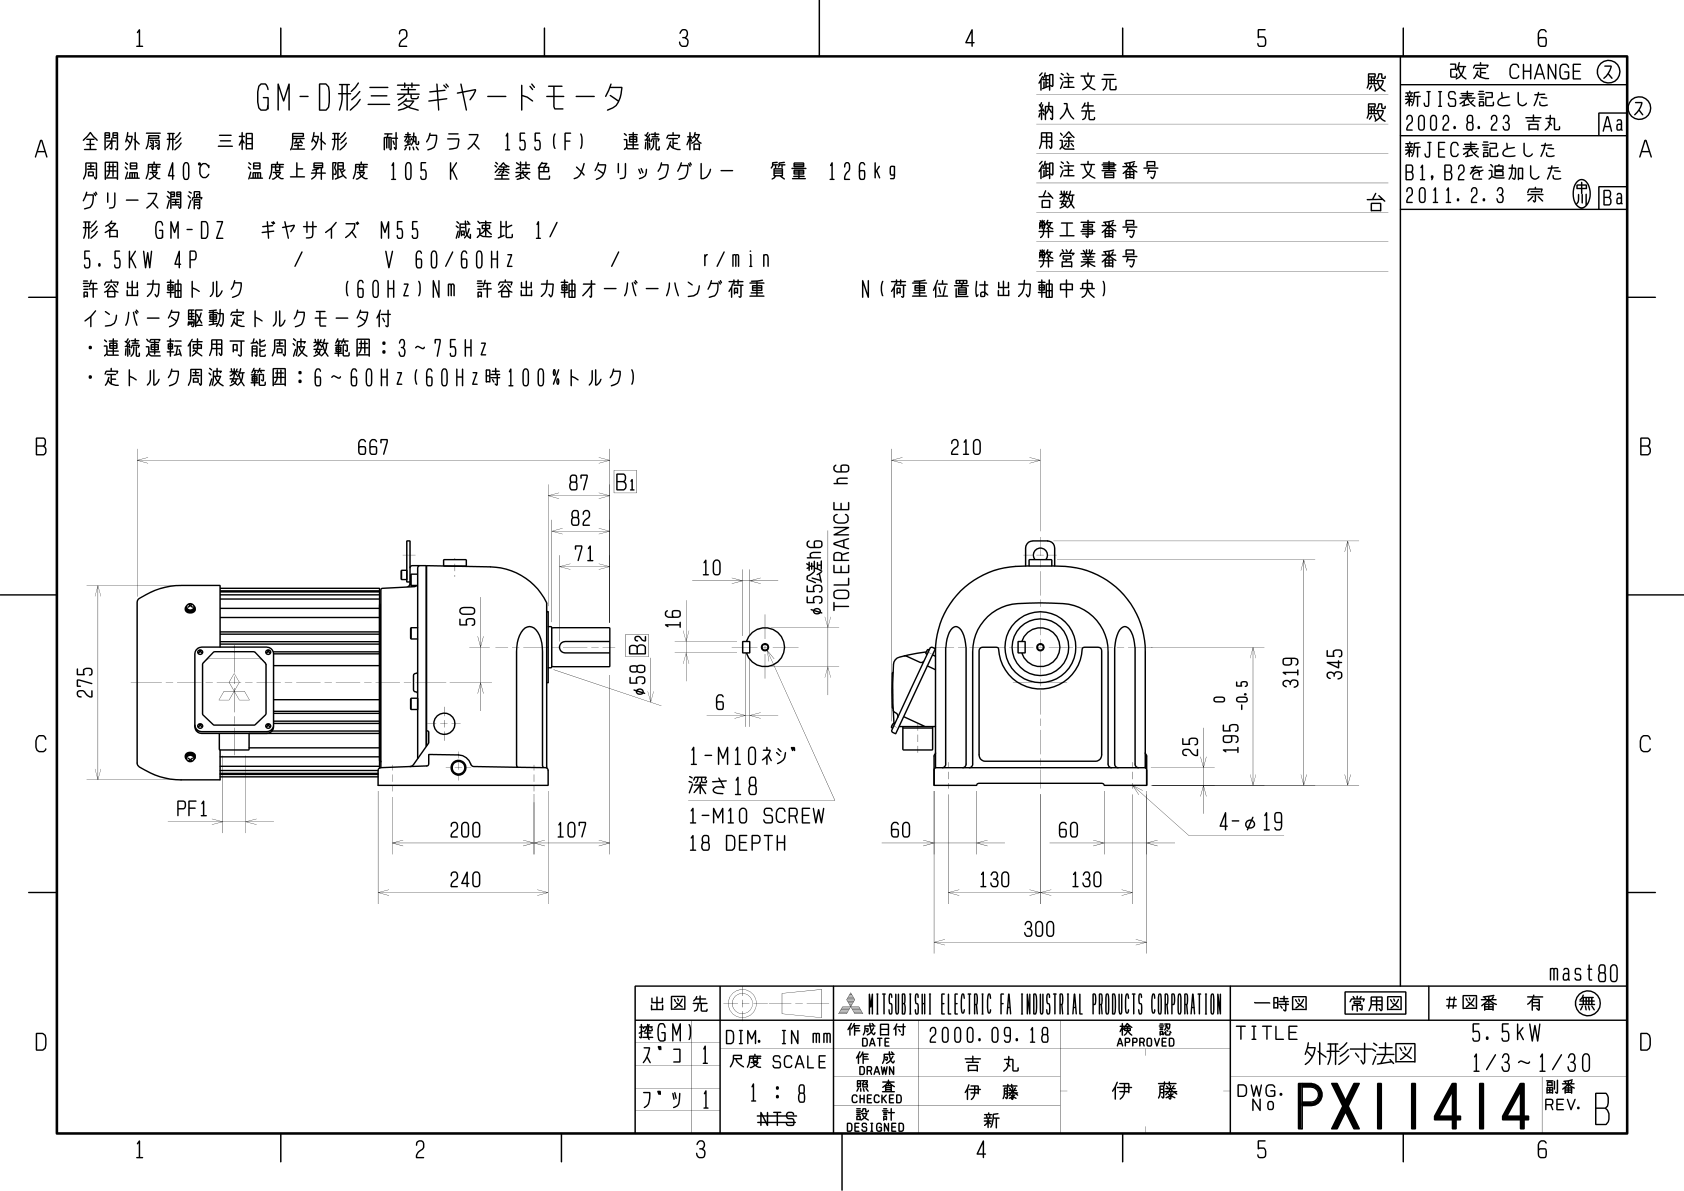GM_D_インバータ屋外_三相_脚: (8, 4, 1684, 1191)
